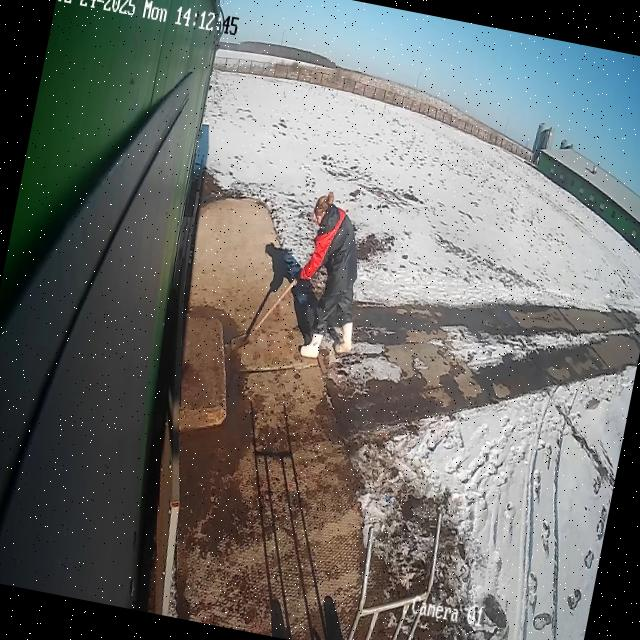Red uniform: (283, 198, 376, 351)
